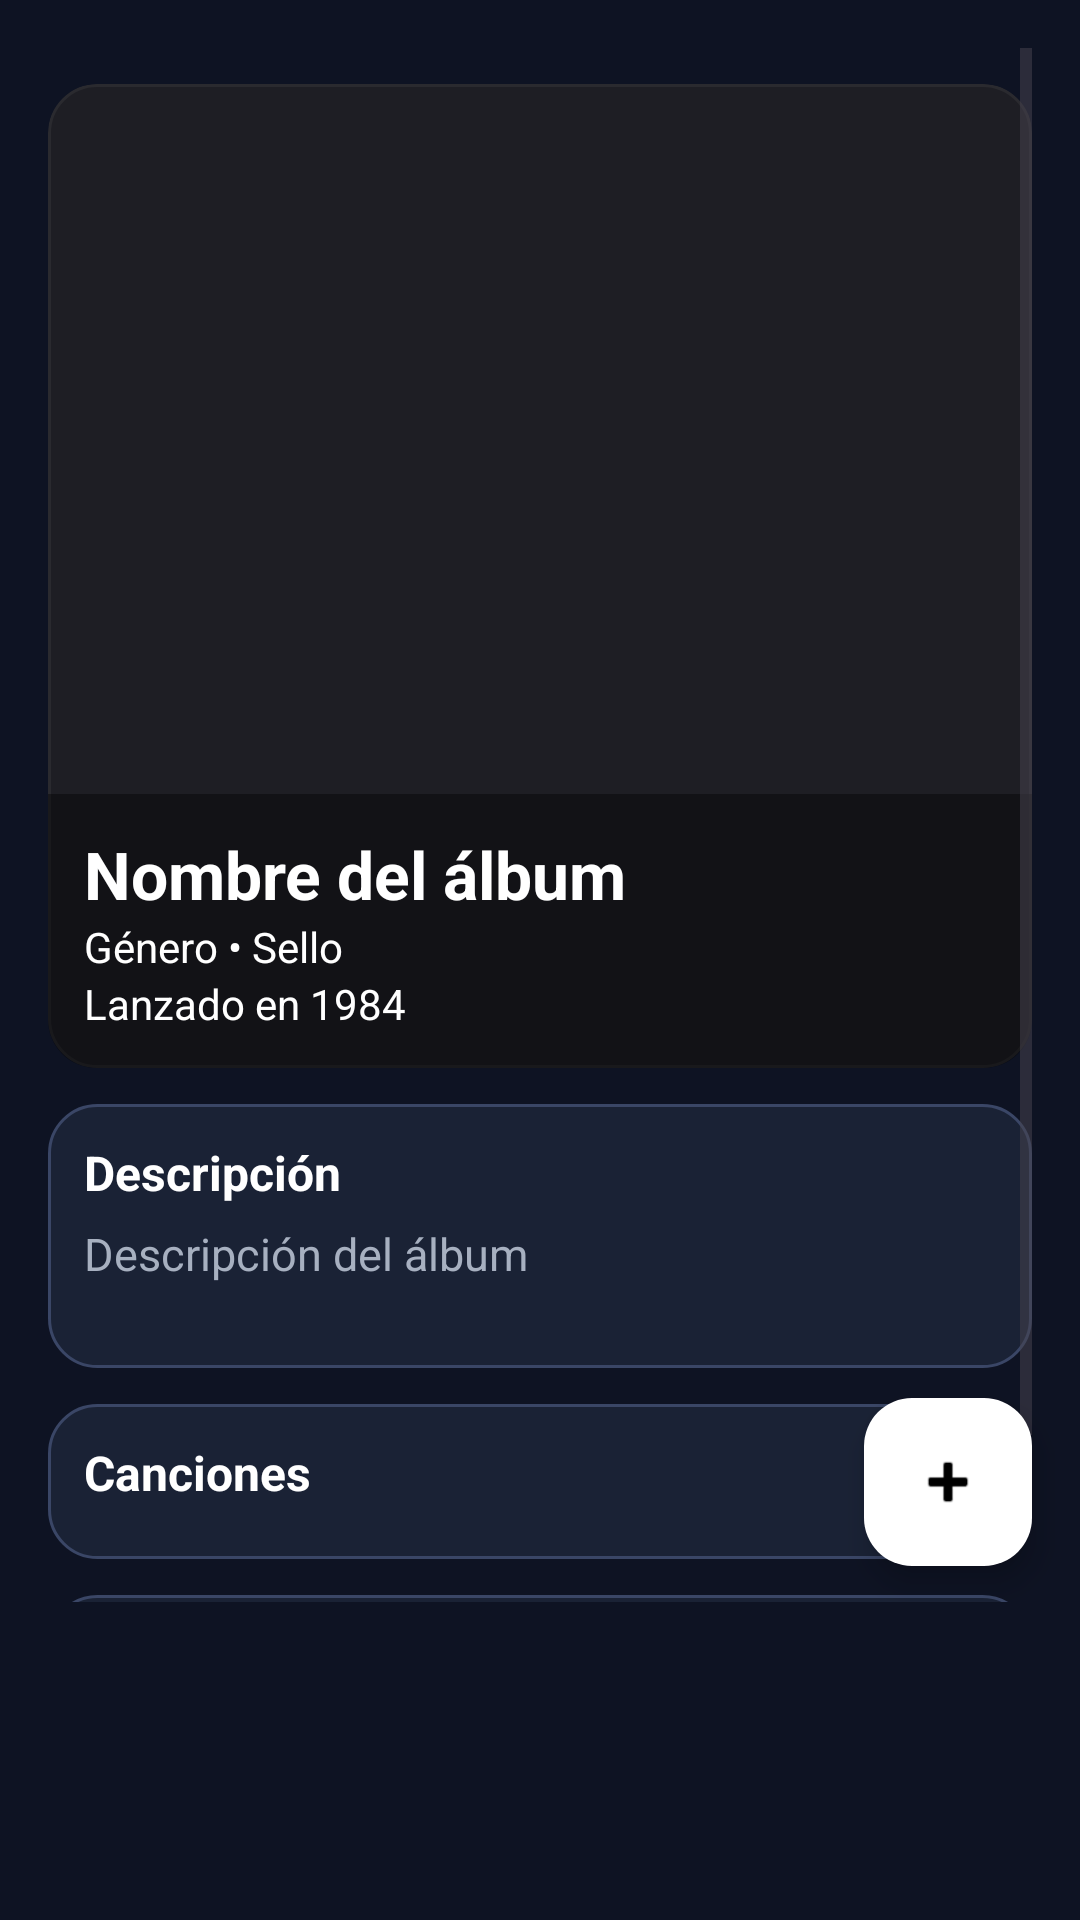

Icon click points for this 1080px x 1920px phone screenshot, format [x,y]:
add: [948,1482]
